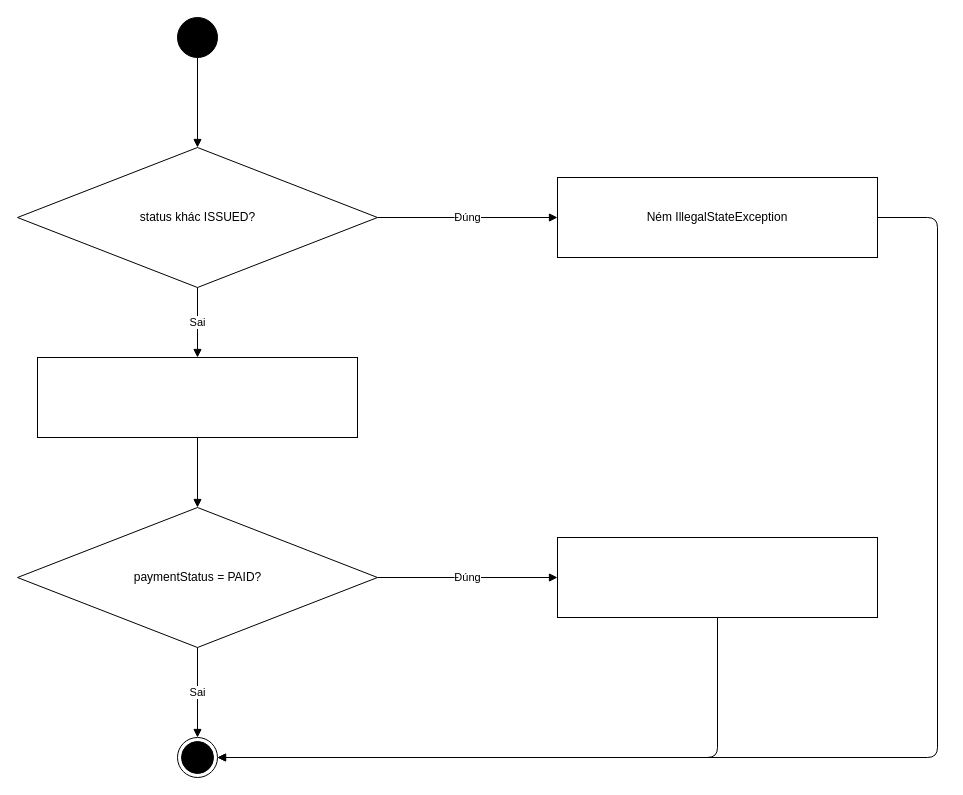
This 963x795 diagram has some shape labels left out. Here are the shapes that lost their labels. From the top down, the box of each, then its label:
(36, 356, 358, 438): status = CANCELLED
(556, 536, 878, 618): refundStatus = NOT_REFUNDED
